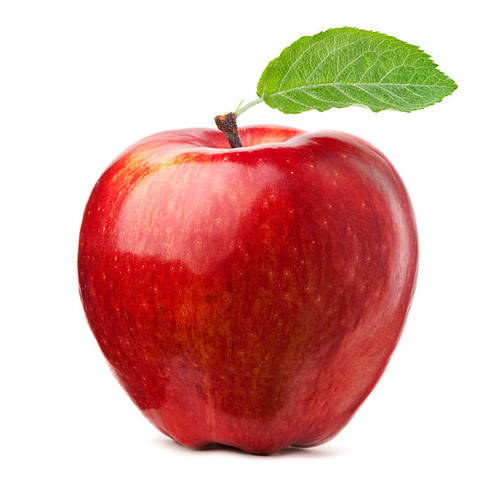apple: (72, 27, 459, 457)
